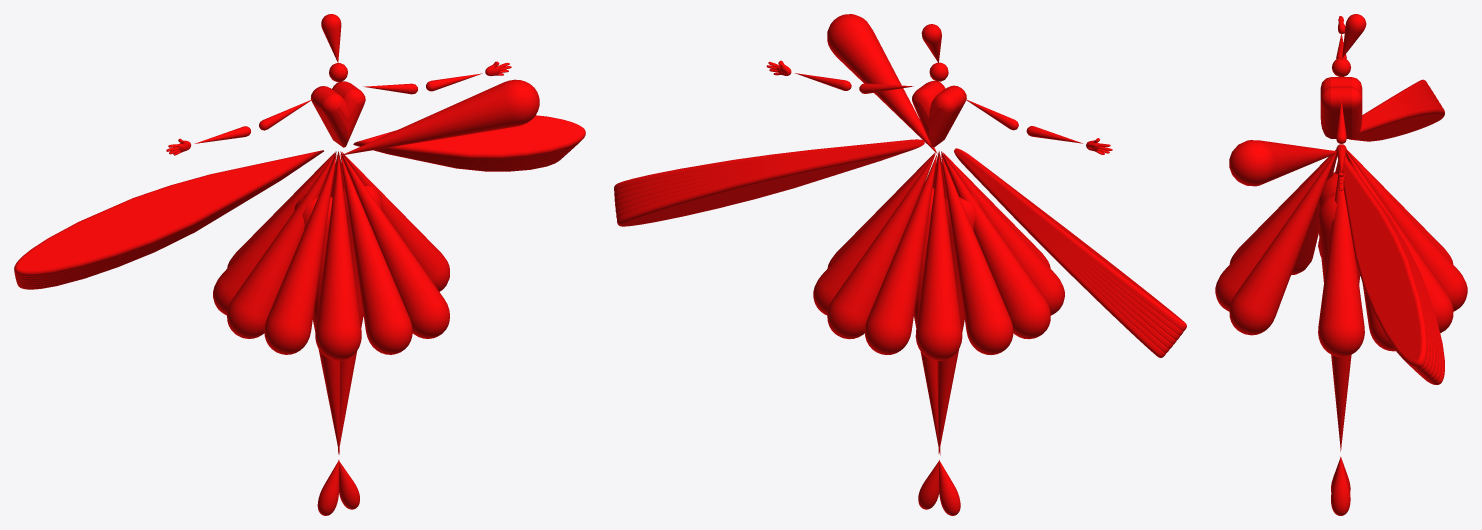
File: fairy.fbx
3 views of the same model, side by side, from view 1: azimuth 30°, elevation 25°; view 2: azimuth 150°, elevation 25°; view 3: azimuth 270°, elevation 25° (orthographic).
Visible parts, largest first — view 1: Extrude_1_7, Cone_9, Cone_7, Cone_8, Cone_5, Extrude_9, Cone_6, Cone_10, Cone_11, Cone_4, Extrude, Cone_1_5 (+3 smaller); view 2: Extrude_3, Cone, Cone_11, Cone_12, Cone_2, Cone_10, Cone_5, Extrude_1_7, Cone_3, Cone_9, Extrude, Extrude_9 (+15 smaller); view 3: Extrude_9, Cone_6, Cone_4, Cone_5, Cone, Cone_7, Extrude, Cone_17, Extrude_1, Cone_2, Cone_9, Cone_1_4 (+13 smaller).
Boxes of the visible parts, x1,y1,x2,y2 form: Extrude_1_7: (14, 150, 323, 276); Cone_9: (264, 154, 336, 354); Cone_7: (340, 154, 412, 354); Cone_8: (315, 154, 361, 360); Cone_5: (343, 79, 539, 154); Extrude_9: (353, 115, 585, 159); Cone_6: (341, 153, 449, 338); Cone_10: (227, 153, 335, 338); Cone_11: (213, 152, 334, 315); Cone_4: (342, 152, 449, 291); Extrude: (310, 81, 365, 147); Cone_1_5: (294, 194, 340, 454); Extrude_3: (617, 143, 922, 226); Cone: (864, 154, 937, 354); Cone_11: (941, 154, 1013, 354); Cone_12: (915, 154, 962, 360); Cone_2: (827, 153, 935, 339); Cone_10: (942, 153, 1050, 339); Cone_5: (827, 14, 937, 153); Extrude_1_7: (954, 148, 1186, 331); Cone_3: (813, 152, 935, 315); Cone_9: (943, 153, 1064, 315); Extrude: (912, 81, 966, 147); Extrude_9: (614, 139, 924, 191); Extrude_9: (1342, 157, 1427, 368); Cone_6: (1229, 153, 1336, 335); Cone_4: (1318, 166, 1364, 356); Cone_5: (1229, 140, 1336, 186); Cone: (1346, 150, 1467, 311); Cone_7: (1215, 150, 1336, 311); Extrude: (1320, 77, 1362, 138); Cone_17: (1317, 192, 1360, 443); Extrude_1: (1349, 105, 1444, 141); Cone_2: (1346, 151, 1453, 332); Cone_9: (1291, 153, 1337, 275); Cone_1_4: (1331, 457, 1350, 515).
Size of the model in its own units: 1491 by 1229 by 569.
